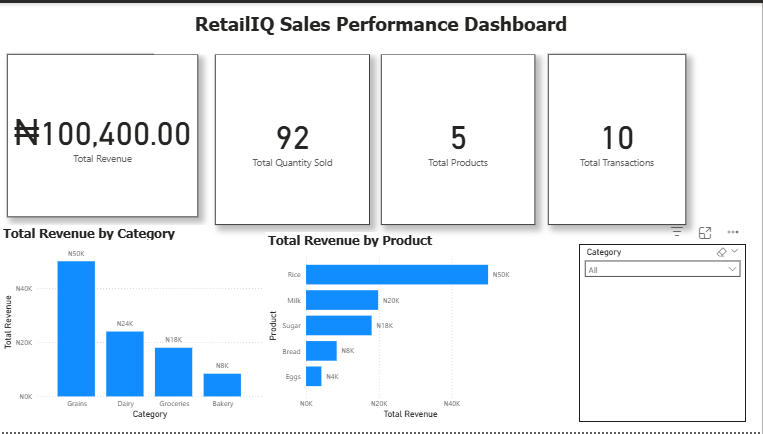

This screenshot's page, from the dashboard's own definition file:
{"tool":"powerbi","page":{"name":"Page 1","canvas":[1280,720],"ordinal":0},"visuals":[{"type":"card","fields":{"Values":["retailiq sales.Total Revenue"]},"box":[11.8,85.7,320.8,273.8],"z":0},{"type":"clusteredColumnChart","fields":{"Category":["retailiq products.Category"],"Y":["retailiq sales.Total Revenue"]},"box":[0,372.9,445.1,330.9],"z":1000},{"type":"card","fields":{"Values":["retailiq sales.Total Quantity Sold"]},"box":[361.2,85.7,260.4,287.2],"z":2000},{"type":"clusteredBarChart","fields":{"Category":["retailiq products.Product"],"Y":["retailiq sales.Total Revenue"]},"box":[445.1,384.7,438.4,319.2],"z":3000},{"type":"slicer","fields":{"Values":["retailiq products.Category"]},"box":[972.6,404.8,280.5,299],"z":4000},{"type":"card","fields":{"Values":["retailiq sales.Total Products"]},"box":[640,85.7,258.7,287.2],"z":5000},{"type":"textbox","box":[258.7,10.1,762.6,75.6],"z":6000},{"type":"card","fields":{"Values":["retailiq products.Total Transactions"]},"box":[920.5,85.7,231.8,287.2],"z":6001}]}

Visuals, with their boxes in screenshot pixels (x1, y1, x2, y2), scaled from the page's 1280x720 canvas onto the 763x434 screenshot:
card - retailiq sales.Total Revenue: l=7, t=52, r=198, b=217
clusteredColumnChart - retailiq products.Category x retailiq sales.Total Revenue: l=0, t=225, r=265, b=424
card - retailiq sales.Total Quantity Sold: l=215, t=52, r=371, b=225
clusteredBarChart - retailiq products.Product x retailiq sales.Total Revenue: l=265, t=232, r=527, b=424
slicer - retailiq products.Category: l=580, t=244, r=747, b=424
card - retailiq sales.Total Products: l=382, t=52, r=536, b=225
textbox: l=154, t=6, r=609, b=52
card - retailiq products.Total Transactions: l=549, t=52, r=687, b=225
